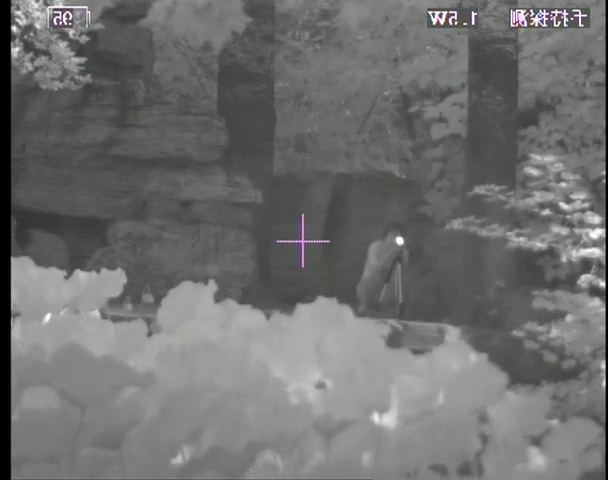my: (394, 235, 405, 247)
